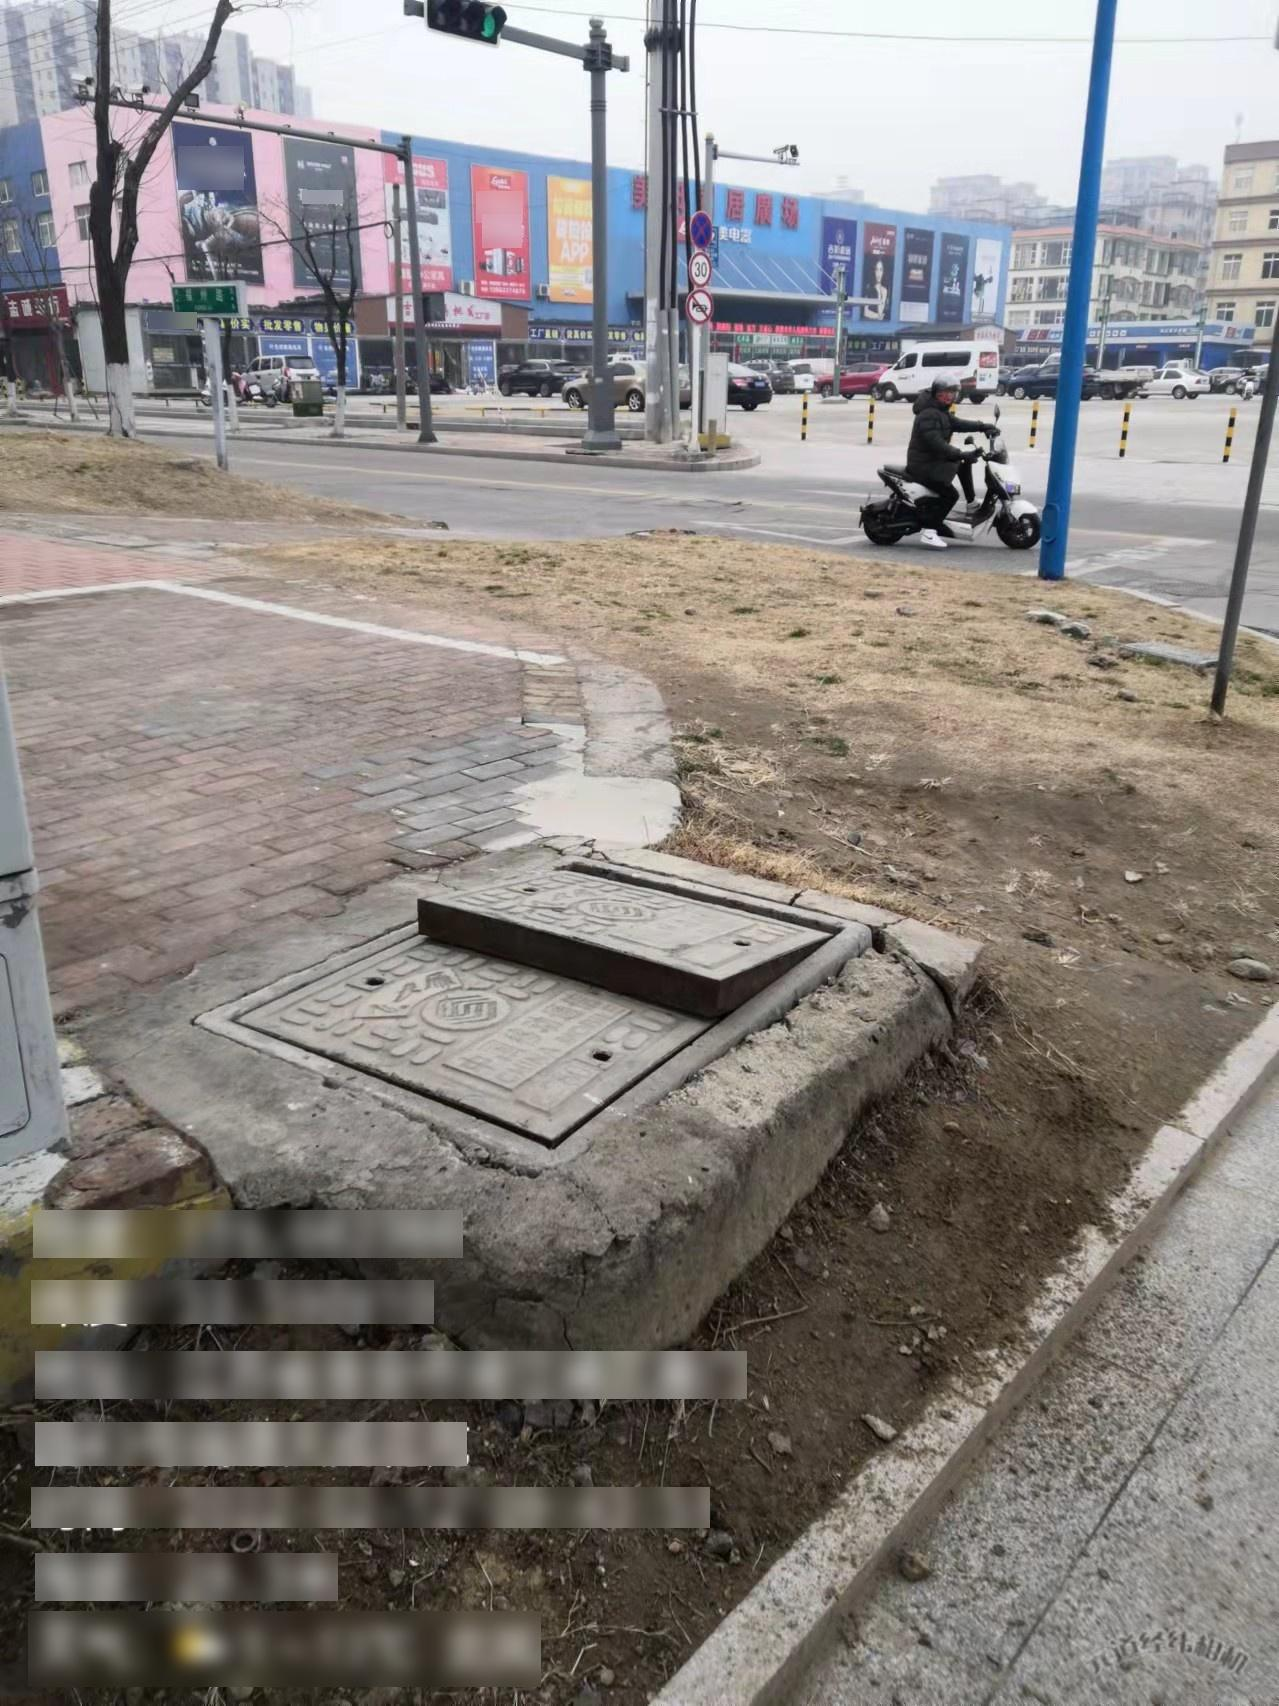wellcover: (215, 807, 854, 1174)
